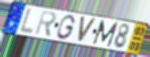8: (113, 23, 131, 50)
G: (56, 14, 77, 41)
L: (17, 7, 34, 36)
M: (92, 19, 119, 48)
R: (33, 9, 57, 39)
V: (77, 15, 97, 44)
